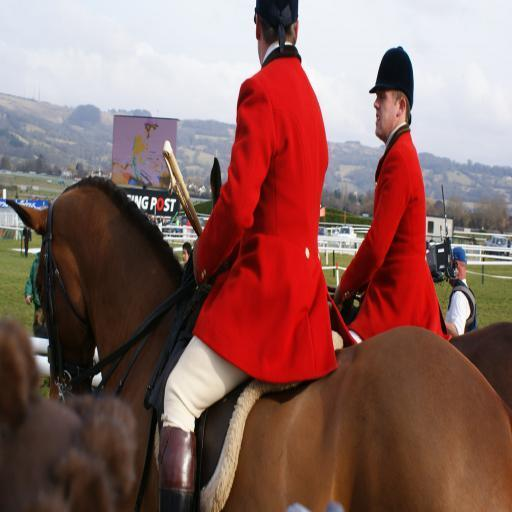horse: (1, 172, 512, 510)
